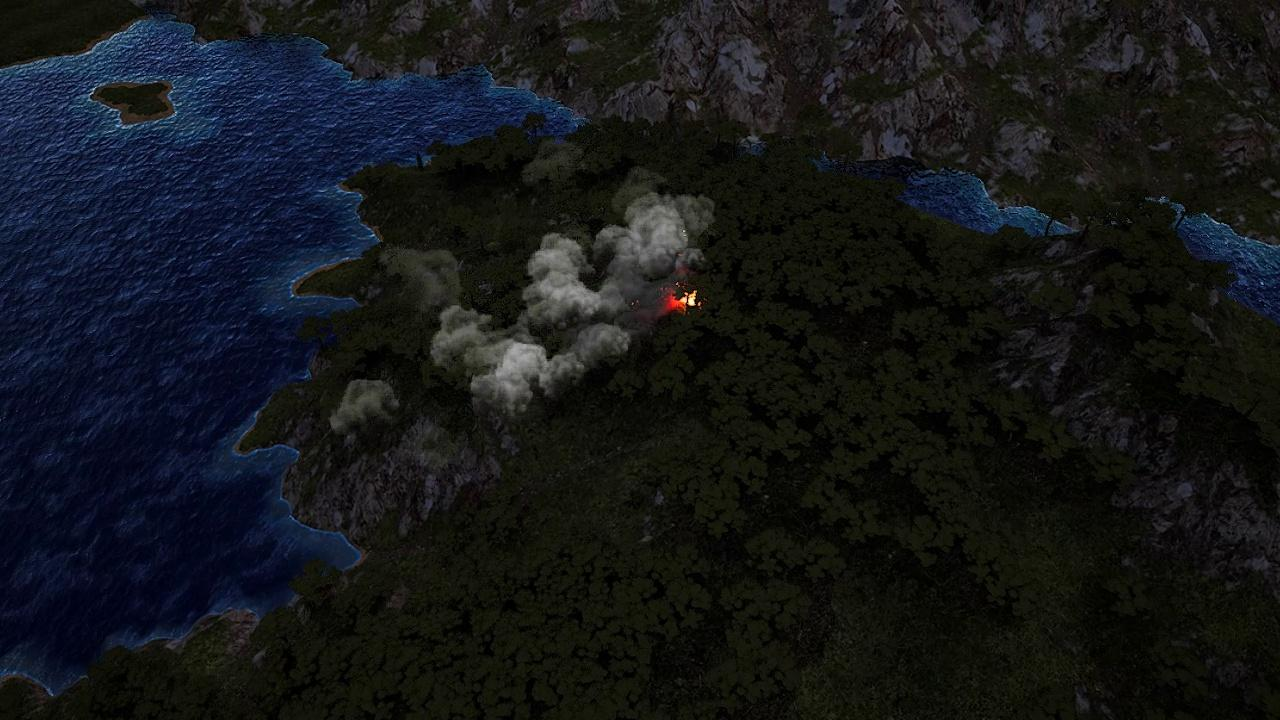fire: (669, 290, 701, 317)
smoke: (325, 177, 705, 468)
